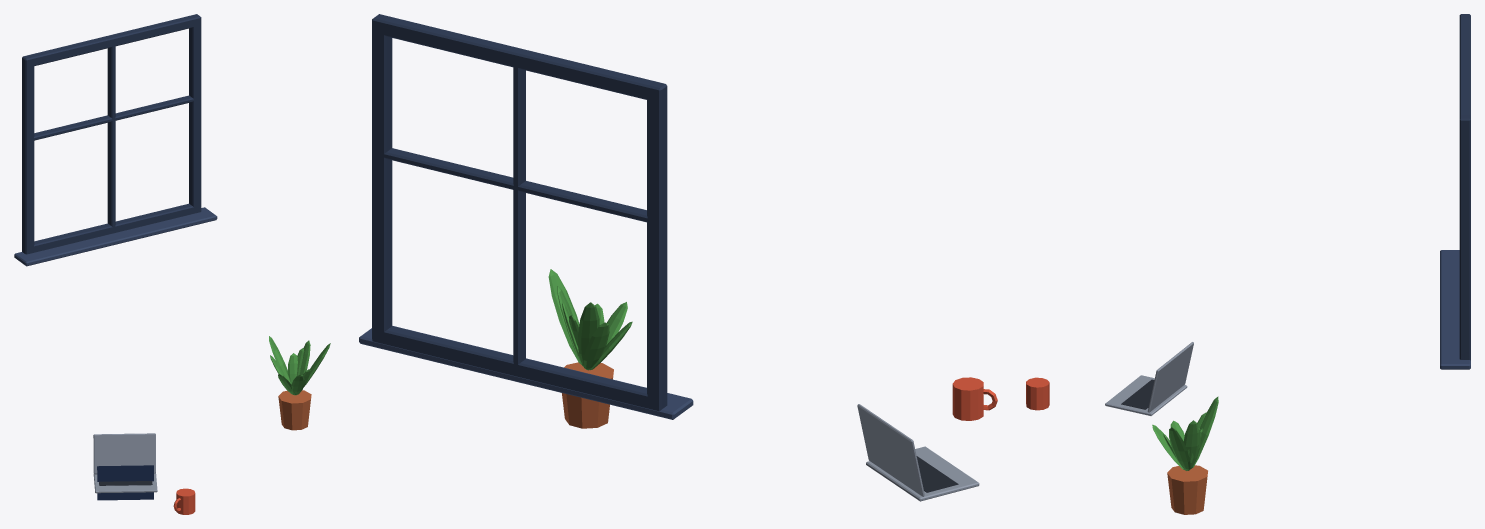
File: props.glb
3 renders of one model, left to right at view 1: azimuth 30°, elevation 25°; view 2: azimuth 150°, elevation 25°; view 3: azimuth 270°, elevation 25°, orthographic. The views are drawn at different scales.
Parts seen in each view (by area): view 1: Props_Window, Props_Laptop, Props_Plant, Props_LaptopScreen, Props_Mug; view 2: Props_Window, Props_Plant, Props_Laptop, Props_Mug; view 3: Props_Window, Props_Plant, Props_Laptop, Props_Mug.
Boxes of the visible parts, left/top/right/bottom form: Props_Window: left=14, top=14, right=217, bottom=266; Props_Laptop: left=93, top=433, right=157, bottom=493; Props_Plant: left=269, top=336, right=330, bottom=430; Props_LaptopScreen: left=97, top=465, right=153, bottom=500; Props_Mug: left=173, top=488, right=195, bottom=514; Props_Window: left=359, top=14, right=693, bottom=419; Props_Plant: left=548, top=269, right=632, bottom=428; Props_Laptop: left=857, top=404, right=979, bottom=501; Props_Mug: left=952, top=377, right=997, bottom=420; Props_Window: left=1440, top=14, right=1470, bottom=369; Props_Plant: left=1152, top=396, right=1218, bottom=514; Props_Laptop: left=1105, top=342, right=1193, bottom=415; Props_Mug: left=1026, top=377, right=1049, bottom=410.
Size of the model in its own units: 5.05 by 6.59 by 6.36.
